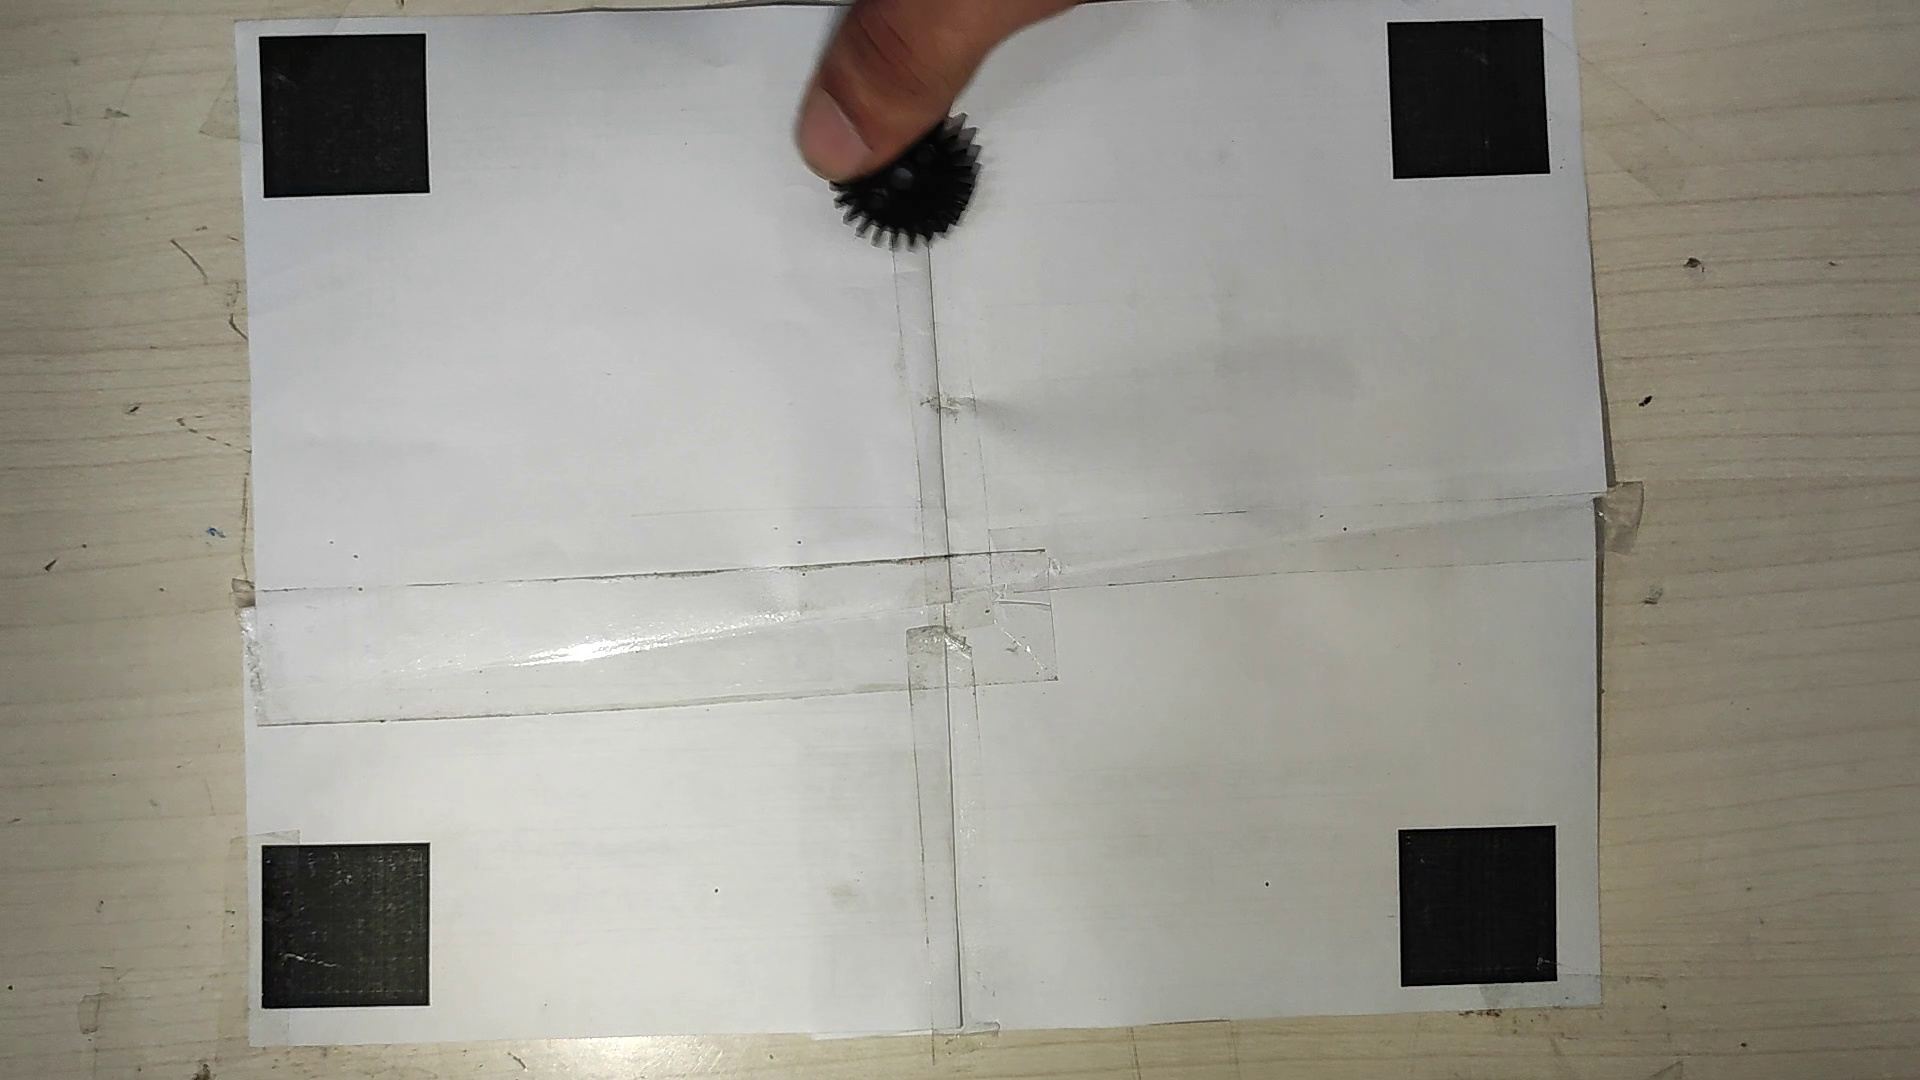Gear: (827, 114, 985, 257)
